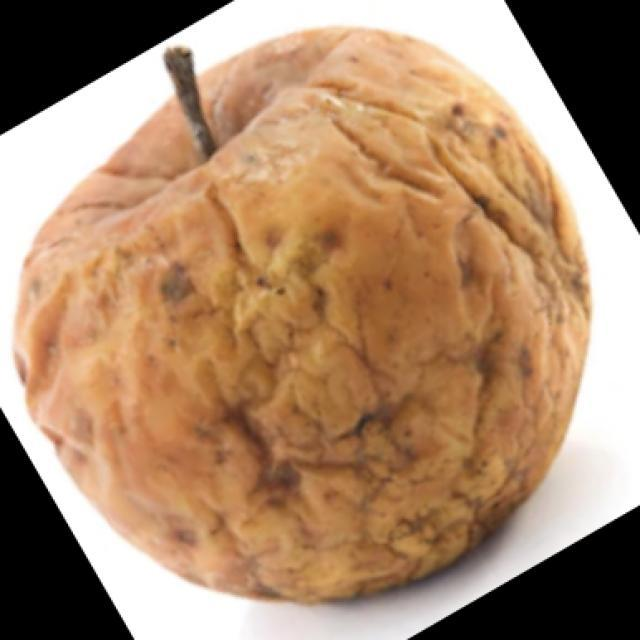Rotten: (61, 50, 566, 595)
